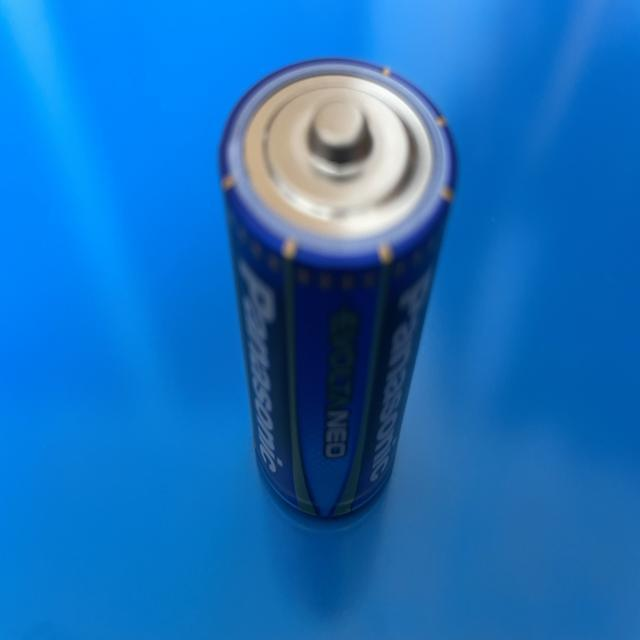AA: (216, 54, 463, 516)
